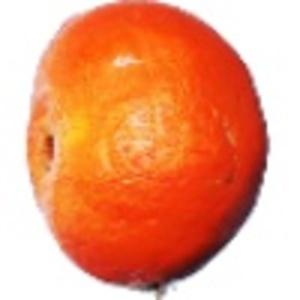tangerina: (23, 1, 272, 300)
